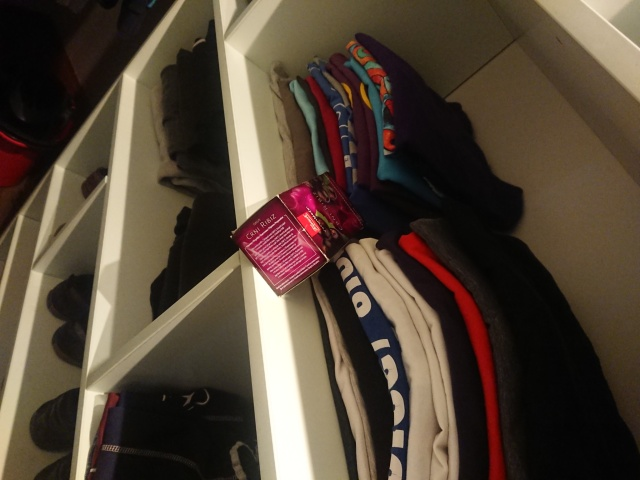Franck Black Currant Tea 60g: (227, 170, 368, 298)
